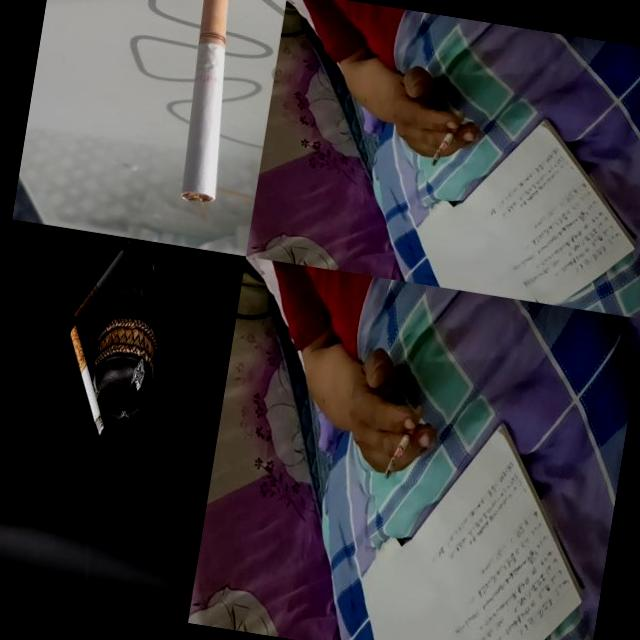cigarette: (169, 0, 248, 203), (53, 325, 120, 442), (70, 236, 134, 330), (384, 401, 426, 484), (430, 108, 467, 172)
